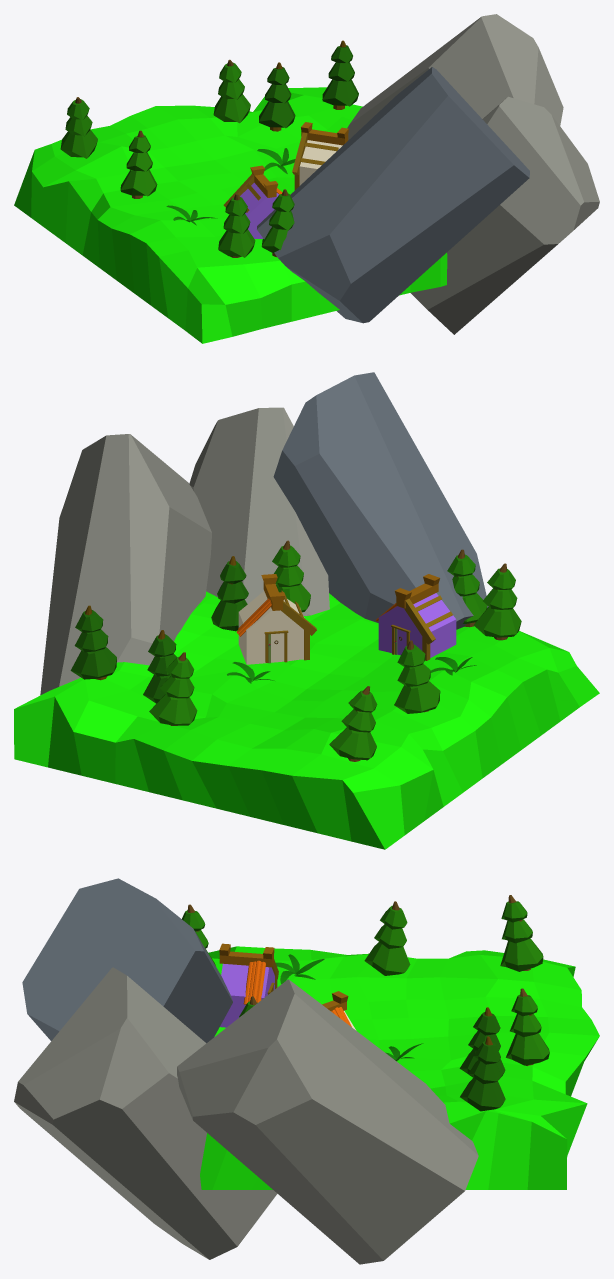
The model's file is Home.glb.
3 renders of one model, top to bottom at view 1: azimuth 30°, elevation 25°; view 2: azimuth 150°, elevation 25°; view 3: azimuth 270°, elevation 25°, orthographic. The views are drawn at different scales.
Visible parts, largest first — view 1: Cube, Камент.001, Куб.018, Куб.014, Цилиндр.041, Цилиндр.040, Цилиндр.004, Цилиндр.006, Цилиндр.007, Цилиндр.008, Цилиндр.002, Дом.002 (+3 smaller); view 2: Cube, Камент.001, Куб.014, Куб.018, Дом.001, Дом.002, Цилиндр.004, Цилиндр.008, Цилиндр.041, Цилиндр.007, Цилиндр.006, Цилиндр.042 (+5 smaller); view 3: Куб.014, Cube, Куб.018, Камент.001, Цилиндр.006, Цилиндр.041, Цилиндр.007, Цилиндр.008, Дом.002, Цилиндр.040, Куб.001, Цилиндр.001 (+1 smaller).
Part boxes in pixels (x1=…): Cube: x1=14, y1=87, x2=447, y2=343; Камент.001: x1=257, y1=67, x2=529, y2=323; Куб.018: x1=410, y1=96, x2=599, y2=334; Куб.014: x1=347, y1=14, x2=563, y2=139; Цилиндр.041: x1=322, y1=40, x2=358, y2=109; Цилиндр.040: x1=259, y1=62, x2=295, y2=131; Цилиндр.004: x1=218, y1=193, x2=255, y2=257; Цилиндр.006: x1=120, y1=130, x2=157, y2=198; Цилиндр.007: x1=213, y1=59, x2=250, y2=123; Цилиндр.008: x1=60, y1=97, x2=97, y2=158; Цилиндр.002: x1=261, y1=189, x2=294, y2=257; Дом.002: x1=240, y1=182, x2=279, y2=238; Cube: x1=14, y1=591, x2=599, y2=849; Камент.001: x1=273, y1=372, x2=488, y2=629; Куб.014: x1=40, y1=434, x2=211, y2=695; Куб.018: x1=189, y1=407, x2=329, y2=615; Дом.001: x1=238, y1=591, x2=304, y2=664; Дом.002: x1=378, y1=593, x2=456, y2=657; Цилиндр.004: x1=473, y1=563, x2=521, y2=640; Цилиндр.008: x1=329, y1=686, x2=377, y2=761; Цилиндр.041: x1=70, y1=605, x2=116, y2=680; Цилиндр.007: x1=149, y1=652, x2=197, y2=725; Цилиндр.006: x1=394, y1=640, x2=440, y2=713; Цилиндр.042: x1=211, y1=556, x2=248, y2=631; Куб.014: x1=177, y1=979, x2=478, y2=1264; Cube: x1=200, y1=946, x2=599, y2=1189; Куб.018: x1=14, y1=967, x2=277, y2=1259; Камент.001: x1=22, y1=878, x2=232, y2=1043; Цилиндр.006: x1=364, y1=901, x2=410, y2=975; Цилиндр.041: x1=460, y1=1036, x2=505, y2=1111; Цилиндр.007: x1=506, y1=988, x2=549, y2=1065; Цилиндр.008: x1=500, y1=895, x2=543, y2=971; Дом.002: x1=220, y1=963, x2=274, y2=1027; Цилиндр.040: x1=459, y1=1007, x2=505, y2=1078; Куб.001: x1=219, y1=943, x2=274, y2=967; Цилиндр.001: x1=243, y1=960, x2=265, y2=1004.
Size of the model in its own units: 69 by 47.03 by 74.14.
